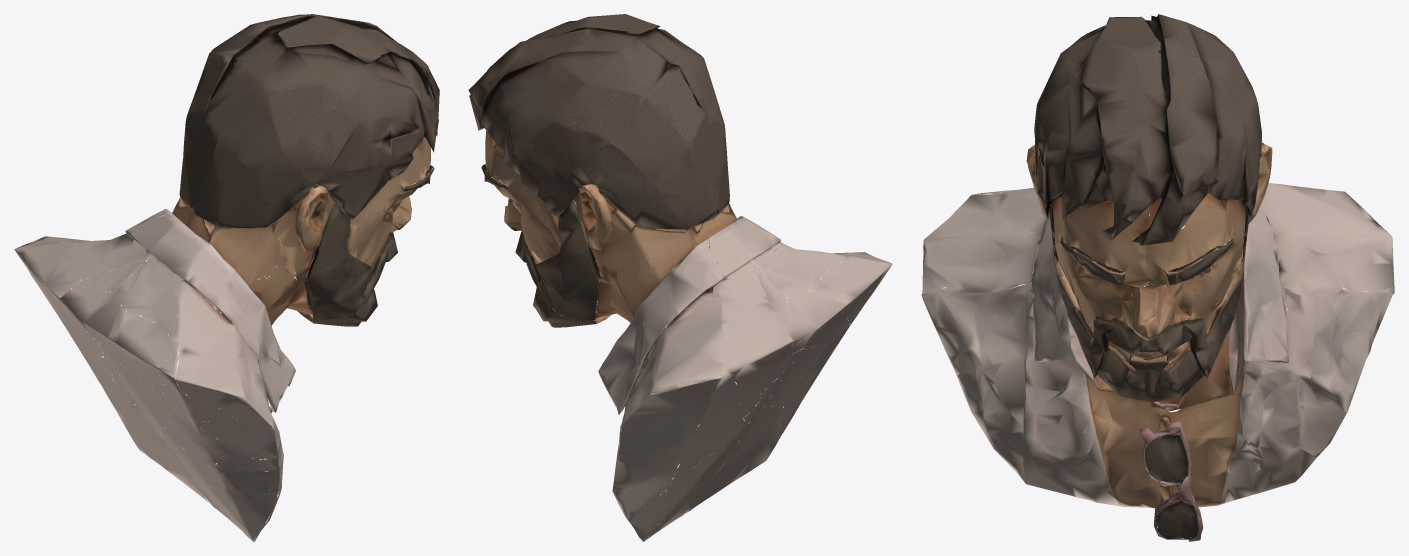
The model's file is paper-bust.glb.
The picture shows the model from 3 angles, left to right: view 1: azimuth 30°, elevation 25°; view 2: azimuth 150°, elevation 25°; view 3: azimuth 270°, elevation 25°; orthographic projection. The views are drawn at different scales.
Visible parts, largest first — view 1: tripo_part_0, tripo_part_8, tripo_part_4, tripo_part_9, tripo_part_6, tripo_part_17, tripo_part_3, tripo_part_7, tripo_part_16, tripo_part_22, tripo_part_32, tripo_part_24 (+11 smaller); view 2: tripo_part_0, tripo_part_6, tripo_part_3, tripo_part_1, tripo_part_5, tripo_part_14, tripo_part_10, tripo_part_17, tripo_part_21, tripo_part_8, tripo_part_4, tripo_part_20 (+7 smaller); view 3: tripo_part_0, tripo_part_2, tripo_part_1, tripo_part_6, tripo_part_8, tripo_part_7, tripo_part_10, tripo_part_5, tripo_part_4, tripo_part_12, tripo_part_3, tripo_part_9 (+11 smaller).
Part boxes in pixels (x1,y1,x2,y2): tripo_part_0: [179, 14, 439, 228]; tripo_part_8: [114, 261, 273, 428]; tripo_part_4: [129, 214, 295, 412]; tripo_part_9: [303, 202, 397, 326]; tripo_part_6: [14, 233, 151, 379]; tripo_part_17: [100, 353, 279, 541]; tripo_part_3: [172, 197, 305, 315]; tripo_part_7: [348, 136, 430, 272]; tripo_part_16: [96, 311, 179, 394]; tripo_part_22: [164, 397, 253, 516]; tripo_part_32: [188, 398, 277, 459]; tripo_part_24: [58, 289, 126, 341]; tripo_part_0: [468, 14, 729, 229]; tripo_part_6: [622, 260, 803, 423]; tripo_part_3: [523, 197, 736, 406]; tripo_part_1: [612, 363, 721, 541]; tripo_part_5: [598, 238, 726, 414]; tripo_part_14: [536, 200, 600, 320]; tripo_part_10: [485, 131, 561, 264]; tripo_part_17: [690, 363, 792, 510]; tripo_part_21: [670, 372, 745, 483]; tripo_part_8: [759, 242, 891, 298]; tripo_part_4: [708, 216, 780, 276]; tripo_part_20: [639, 413, 759, 532]; tripo_part_0: [1034, 14, 1261, 245]; tripo_part_2: [921, 282, 1172, 508]; tripo_part_1: [1170, 284, 1393, 507]; tripo_part_6: [1259, 183, 1394, 311]; tripo_part_8: [922, 187, 1045, 293]; tripo_part_7: [1050, 179, 1149, 334]; tripo_part_10: [1145, 199, 1246, 333]; tripo_part_5: [1231, 208, 1288, 394]; tripo_part_4: [1031, 217, 1099, 390]; tripo_part_12: [1097, 345, 1204, 402]; tripo_part_3: [1149, 268, 1237, 409]; tripo_part_9: [1049, 205, 1148, 378].
Size of the model in its own units: 0.7479 by 0.9984 by 0.7867.
Materials: 51 (51 with a texture image).
